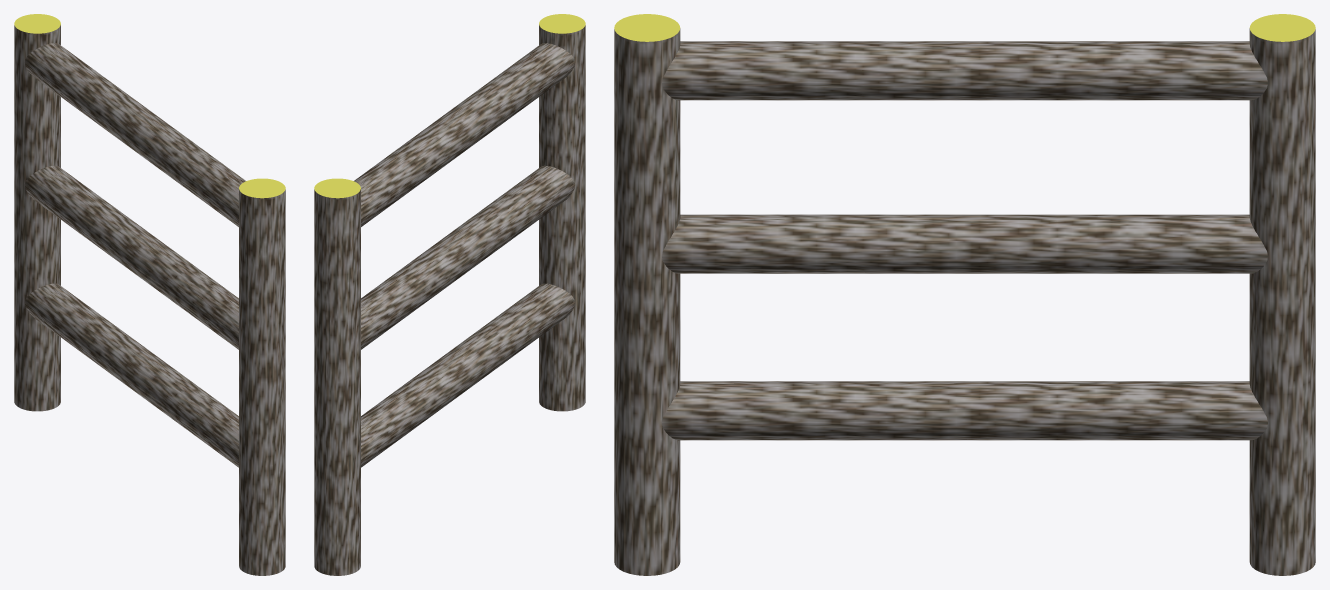
The model's file is Fence02.fbx.
3 renders of one model, left to right at view 1: azimuth 30°, elevation 25°; view 2: azimuth 150°, elevation 25°; view 3: azimuth 270°, elevation 25°, orthographic. The views are drawn at different scales.
Parts seen in each view (by area): view 1: 柵02; view 2: 柵02; view 3: 柵02.
Boxes of the visible parts, bbox=[...] form: 柵02: bbox=[14, 14, 285, 575]; 柵02: bbox=[314, 14, 585, 575]; 柵02: bbox=[614, 14, 1315, 575].
Bounding box in the file's own units: 7.84 × 70 × 83.33.
Materials: 2 (1 with a texture image).
